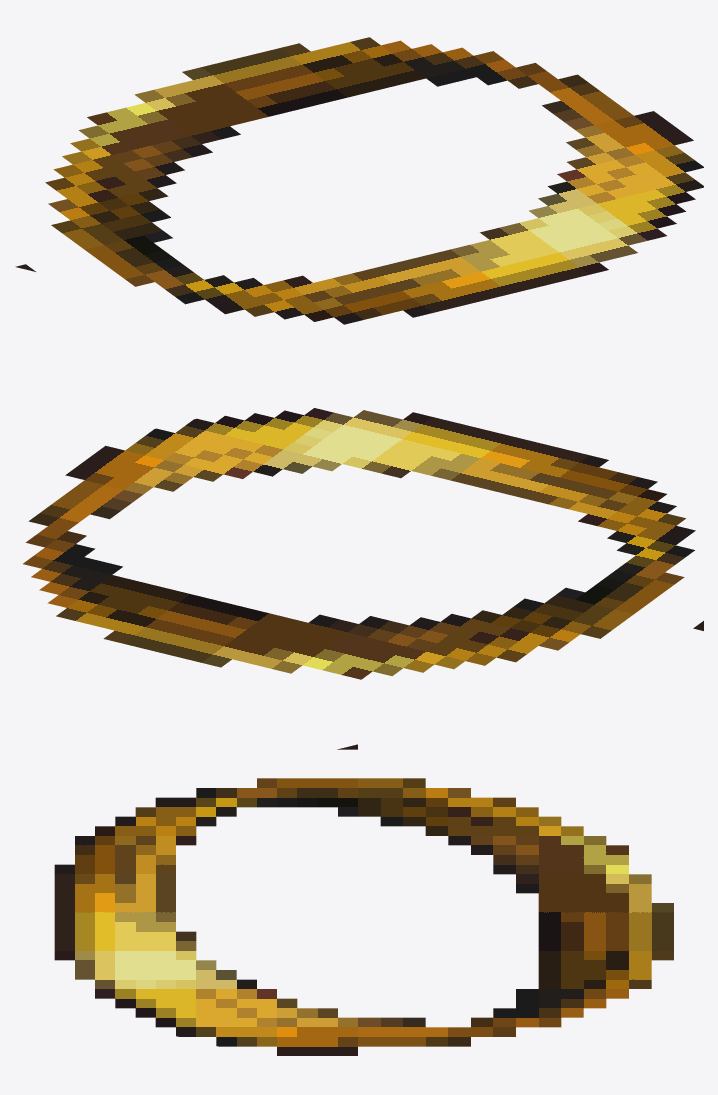
File: ring_38fcbff7.glb
3 views of the same model, one above another, from view 1: azimuth 30°, elevation 25°; view 2: azimuth 150°, elevation 25°; view 3: azimuth 270°, elevation 25° (orthographic).
Size of the model in its own units: 0.149 by 0 by 0.1291.
1 material, 1 textured.
